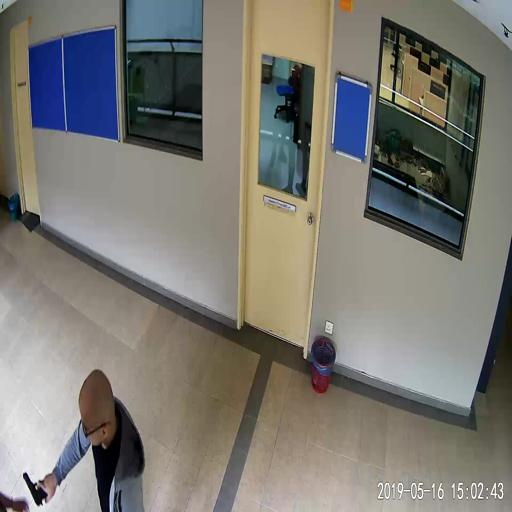pistol: (23, 469, 49, 505)
